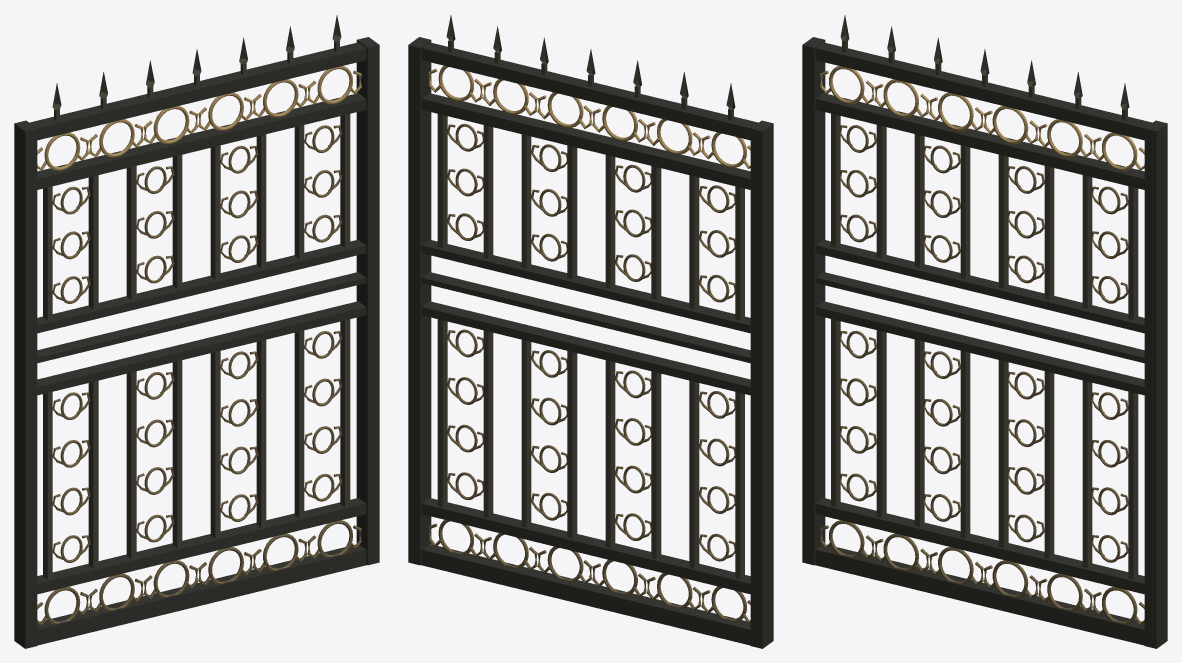
File: huangpu-jingcun-lane-36-east-scroll-gate-web.glb
3 renders of one model, left to right at view 1: azimuth 30°, elevation 25°; view 2: azimuth 150°, elevation 25°; view 3: azimuth 330°, elevation 25°, orthographic.
Visible parts, largest first — view 1: 静村绍兴路36弄弄口东侧透花铁门; view 2: 静村绍兴路36弄弄口东侧透花铁门; view 3: 静村绍兴路36弄弄口东侧透花铁门.
Boxes of the visible parts, box(x1,y1,x2,y2) form: 静村绍兴路36弄弄口东侧透花铁门: box(14, 15, 379, 648); 静村绍兴路36弄弄口东侧透花铁门: box(408, 15, 773, 648); 静村绍兴路36弄弄口东侧透花铁门: box(802, 15, 1167, 648).
Size of the model in its own units: 1.66 by 2.48 by 0.09.
